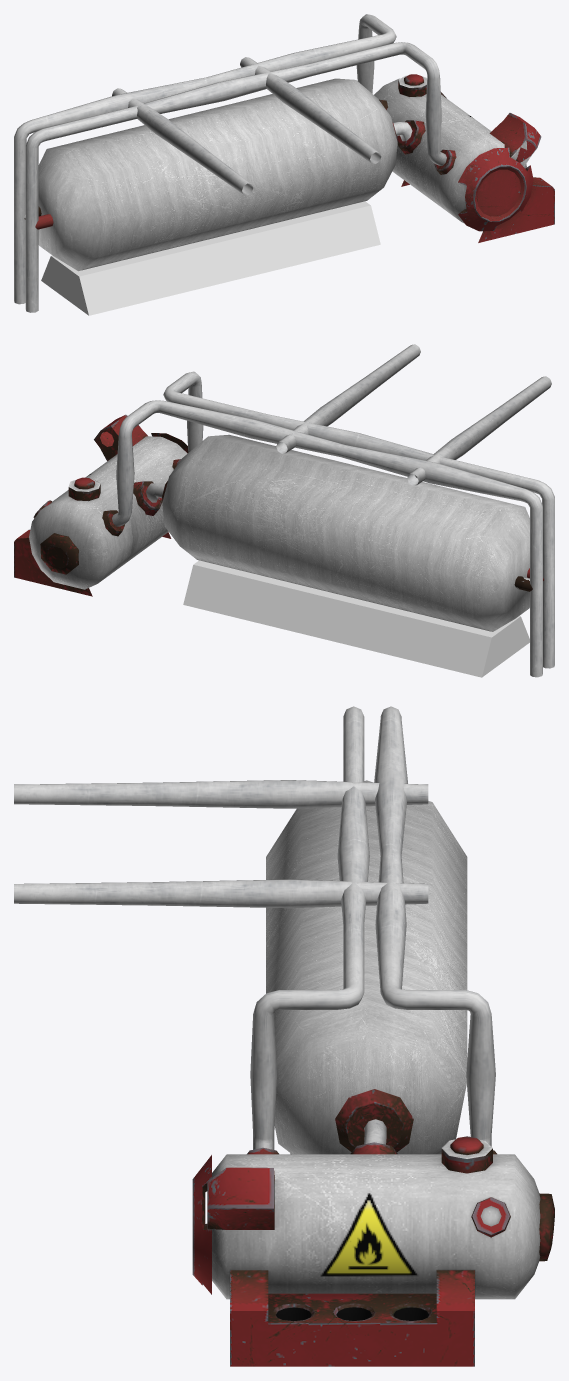
The model's file is OilFabric2.fbx.
The picture shows the model from 3 angles, top to bottom: view 1: azimuth 30°, elevation 25°; view 2: azimuth 150°, elevation 25°; view 3: azimuth 270°, elevation 25°; orthographic projection. The views are drawn at different scales.
Parts seen in each view (by area): view 1: InputBarrel, InputMain, InputPipes; view 2: InputBarrel, InputMain, InputPipes; view 3: InputMain, InputBarrel, InputPipes.
Boxes of the visible parts, x1=… form: InputBarrel: x1=38, y1=78, x2=397, y2=271; InputMain: x1=24, y1=74, x2=554, y2=315; InputPipes: x1=14, y1=14, x2=446, y2=312; InputBarrel: x1=162, y1=434, x2=529, y2=631; InputMain: x1=14, y1=414, x2=543, y2=677; InputPipes: x1=112, y1=344, x2=554, y2=677; InputMain: x1=192, y1=1119, x2=554, y2=1366; InputBarrel: x1=266, y1=780, x2=467, y2=1154; InputPipes: x1=14, y1=706, x2=495, y2=1149.
Size of the model in its own units: 1.79 by 0.6496 by 1.07.
